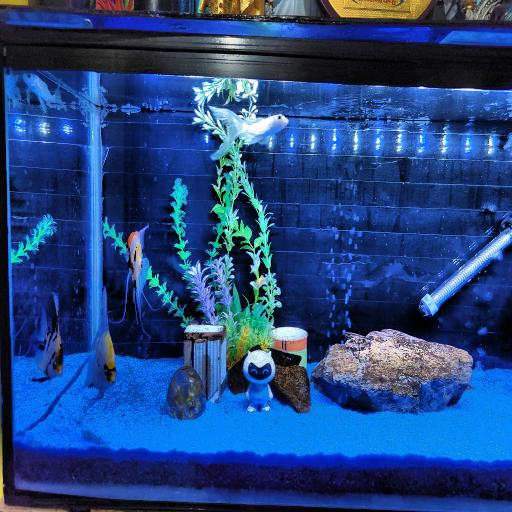Fish: (209, 107, 288, 160), (86, 288, 116, 397), (33, 295, 63, 381), (126, 226, 149, 324), (23, 73, 66, 112)
